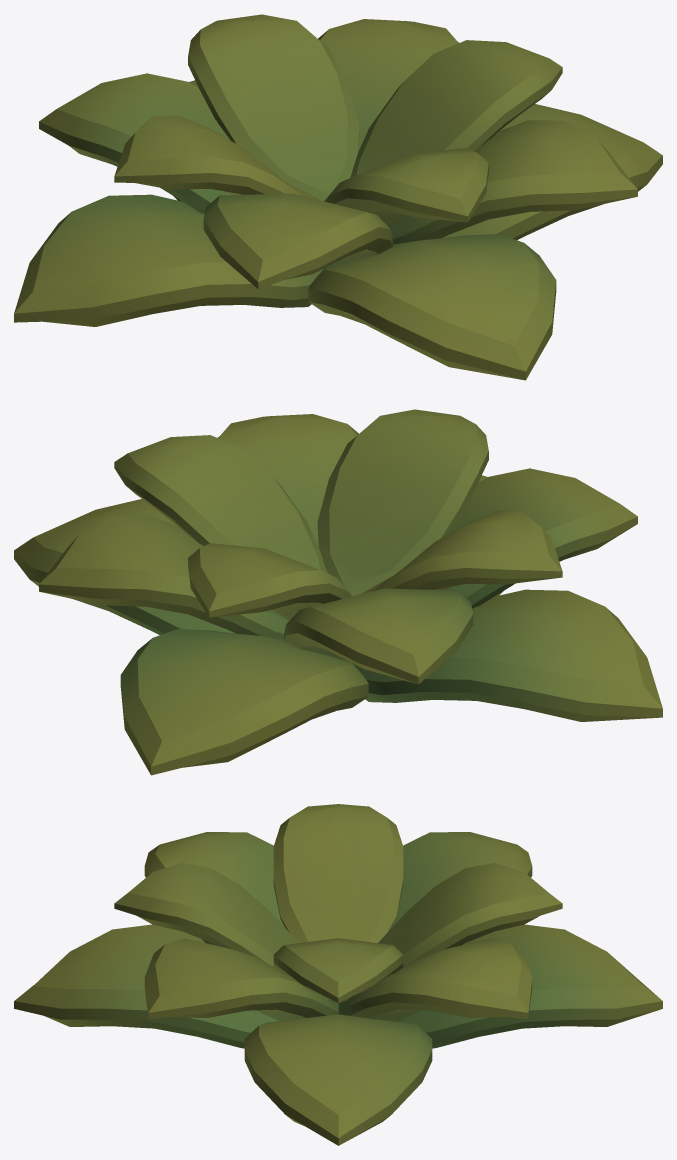
The model's file is shrub.fbx.
3 views of the same model, one above another, from view 1: azimuth 30°, elevation 25°; view 2: azimuth 150°, elevation 25°; view 3: azimuth 270°, elevation 25° (orthographic). The views are drawn at different scales.
Parts seen in each view (by area): view 1: leaves_top, leaves_bottom, leaves_mid; view 2: leaves_top, leaves_bottom, leaves_mid; view 3: leaves_bottom, leaves_top, leaves_mid.
Part boxes in pixels (x1=…): leaves_top: x1=114, y1=14, x2=562, y2=225; leaves_bottom: x1=14, y1=80, x2=662, y2=380; leaves_mid: x1=39, y1=19, x2=637, y2=289; leaves_top: x1=114, y1=409, x2=562, y2=620; leaves_bottom: x1=14, y1=475, x2=662, y2=775; leaves_mid: x1=39, y1=414, x2=637, y2=684; leaves_bottom: x1=14, y1=924, x2=662, y2=1145; leaves_top: x1=114, y1=804, x2=562, y2=1003; leaves_mid: x1=144, y1=832, x2=532, y2=1021.
Bounding box in the file's own units: 95049 × 26346 × 95049.
1 material, 1 textured.
